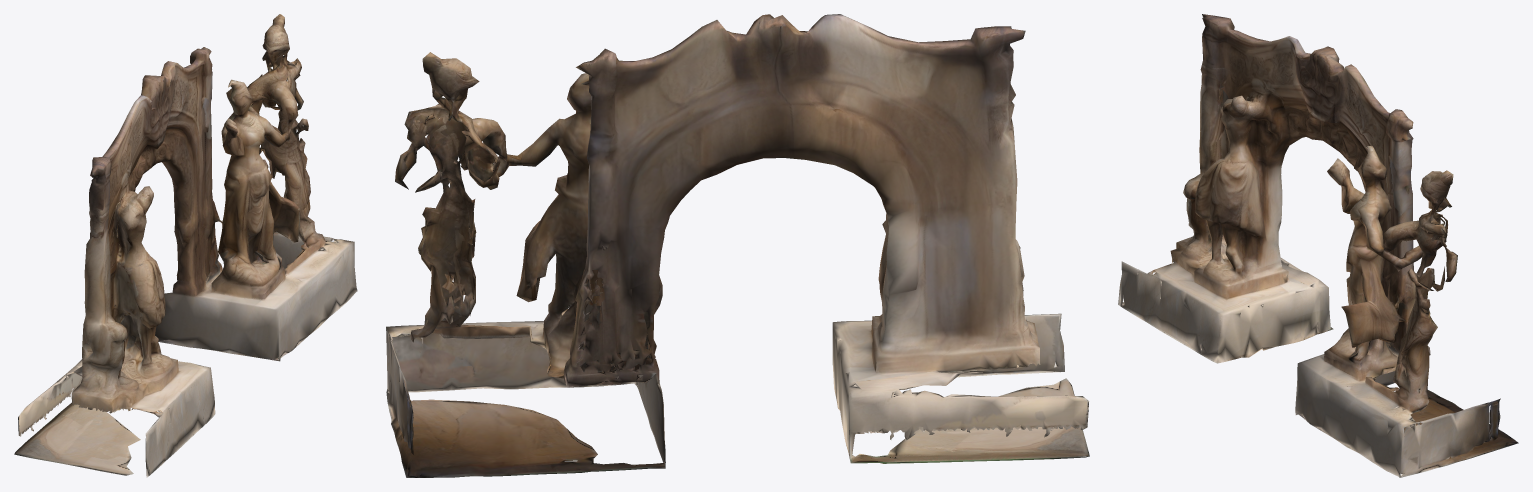
Rendered from statues.glb.
3 renders of one model, left to right at view 1: azimuth 30°, elevation 25°; view 2: azimuth 150°, elevation 25°; view 3: azimuth 270°, elevation 25°, orthographic. The views are drawn at different scales.
Size of the model in its own units: 2 by 1.37 by 1.6.
Materials: 1 (1 with a texture image).
